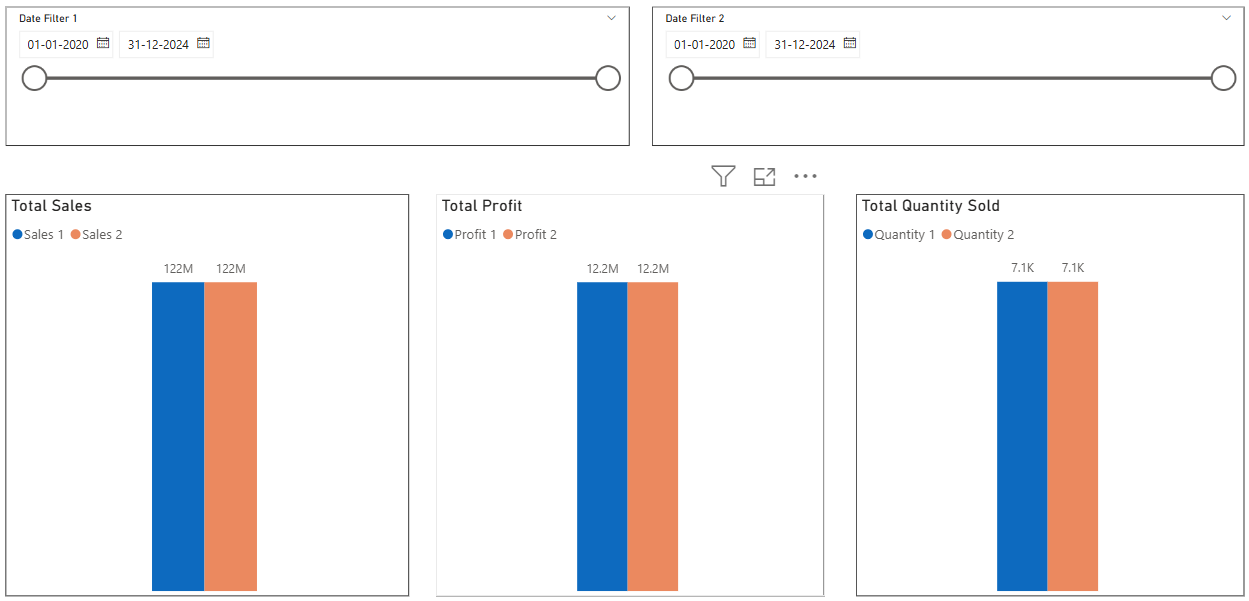

The page's visual inventory and layout, read from the dashboard file:
{"tool":"powerbi","page":{"name":"Comparison Sales/Profit/Quantity","canvas":[1280,720],"ordinal":2},"visuals":[{"type":"slicer","fields":{"Values":["Date Table 1.Date"]},"box":[10.6,22.7,629.9,140.8],"z":0},{"type":"slicer","fields":{"Values":["Date Table 2.Date"]},"box":[663.2,22.7,598.1,140.8],"z":1000},{"type":"clusteredColumnChart","title":"Total Sales","fields":{"Y":["Sum(Fact Table.Net Sales)","Date Table 1.Sum of Net Sales"]},"box":[10.6,212,407.3,405.8],"z":2000},{"type":"clusteredColumnChart","title":"Total Profit","fields":{"Y":["Sum(Fact Table.Profit)","Measures Table.Total Profit"]},"box":[445.2,212,392.2,405.8],"z":3000},{"type":"clusteredColumnChart","title":"Total Quantity Sold","fields":{"Y":["Sum(Fact Table.Units Sold)","Measures Table.Total Quantity Sold"]},"box":[869.2,212,392.2,405.8],"z":4000}]}

Visuals, with their boxes on the page's 1280x720 design canvas (x1, y1, x2, y2). These are canvas units, not pixel positions in the 1249x601 screenshot, which may show the page scaled, cropped or inside an application window:
slicer - Date Table 1.Date: bbox=(11, 23, 640, 164)
slicer - Date Table 2.Date: bbox=(663, 23, 1261, 164)
"Total Sales" clusteredColumnChart: bbox=(11, 212, 418, 618)
"Total Profit" clusteredColumnChart: bbox=(445, 212, 837, 618)
"Total Quantity Sold" clusteredColumnChart: bbox=(869, 212, 1261, 618)
